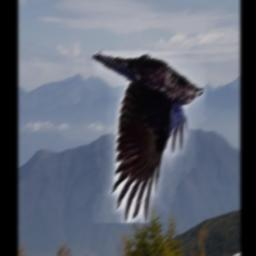Crow: (93, 51, 206, 223)
